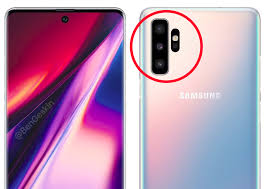samsung: (4, 4, 130, 189), (136, 4, 262, 189)
